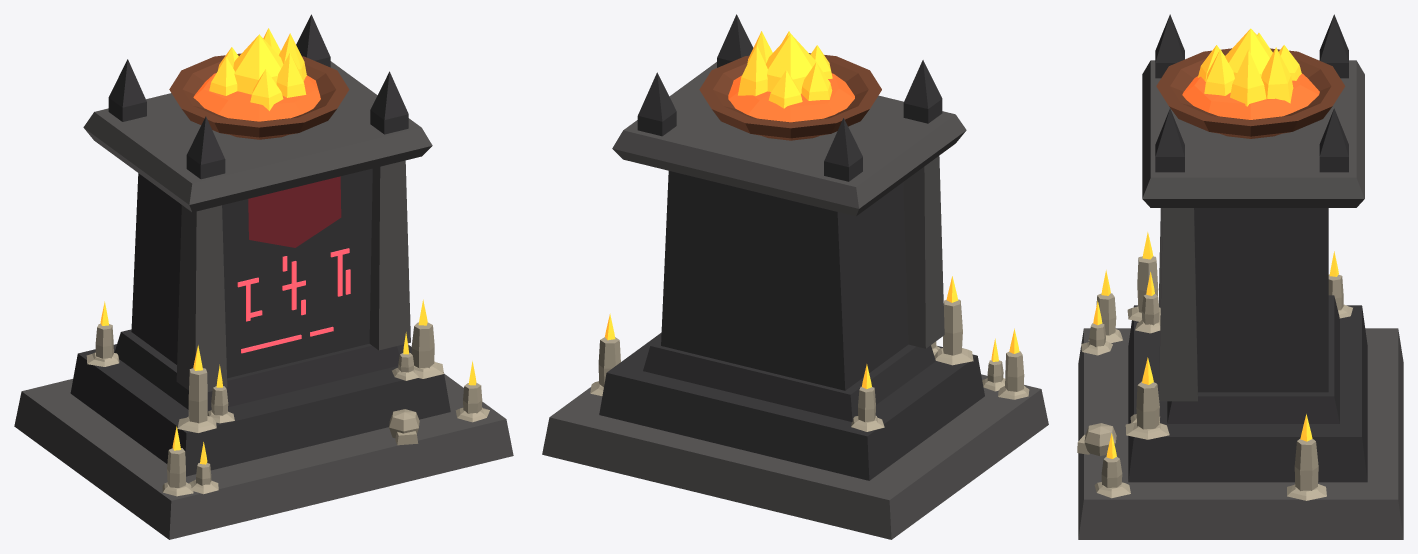
The model's file is shrine.glb.
The picture shows the model from 3 angles, left to right: view 1: azimuth 30°, elevation 25°; view 2: azimuth 150°, elevation 25°; view 3: azimuth 270°, elevation 25°; orthographic projection. The views are drawn at different scales.
Parts seen in each view (by area): view 1: altar_block, step_low, step_mid, altar_cap, pillar_fl, pillar_fr, fire_bowl, fire_flames, cloth_banner, embers, runes_front, finial_fl (+11 smaller); view 2: altar_block, step_low, step_mid, altar_cap, pillar_fl, fire_bowl, fire_flames, embers, finial_br, finial_fl, finial_bl, candle_02 (+4 smaller); view 3: altar_block, step_low, altar_cap, step_mid, pillar_fr, fire_bowl, fire_flames, embers, candle_06, candle_04, finial_fr, finial_br (+9 smaller).
Part boxes in pixels (x1,y1,x2,y2): altar_block: (114,168,399,411); step_low: (14,374,513,539); step_mid: (70,344,450,476); altar_cap: (83,61,432,212); pillar_fl: (176,205,227,391); pillar_fr: (369,160,410,350); fire_bowl: (169,53,349,139); fire_flames: (209,28,306,110); cloth_banner: (248,176,341,247); embers: (193,73,320,121); runes_front: (237,248,350,353); finial_fl: (186,116,225,179); altar_block: (643,171,935,421); step_low: (542,374,1048,539); step_mid: (599,332,984,480); altar_cap: (612,62,966,216); pillar_fl: (903,156,944,348); fire_bowl: (699,53,881,140); fire_flames: (738,31,832,108); embers: (728,73,854,122); finial_br: (637,72,676,136); finial_fl: (903,60,942,123); finial_bl: (824,118,862,181); candle_02: (934,299,973,365); altar_block: (1167,208,1339,423); step_low: (1078,328,1403,539); altar_cap: (1142,60,1364,207); step_mid: (1128,305,1367,482); pillar_fr: (1159,208,1197,401); fire_bowl: (1156,48,1345,138); fire_flames: (1197,28,1301,106); embers: (1182,73,1319,119); candle_06: (1287,438,1326,500); candle_04: (1125,381,1169,439); finial_fr: (1155,108,1184,172); finial_br: (1319,108,1348,172).
Size of what is drawn, in the model's own units: 1.5 by 1.68 by 1.17.
